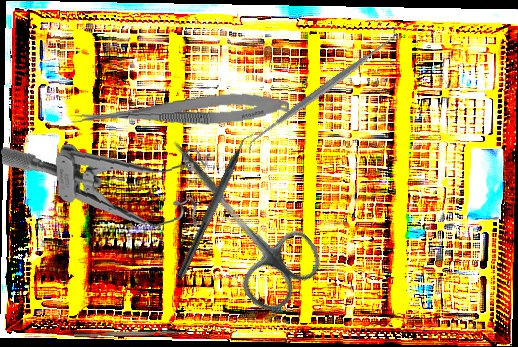Chopper: (176, 123, 262, 284), (73, 325, 194, 338)
Iris Scissors: (139, 116, 332, 320)
Micro Scissor: (69, 88, 290, 138)
Spatula Surgical: (237, 26, 406, 156)
Speculum: (0, 131, 216, 241)
